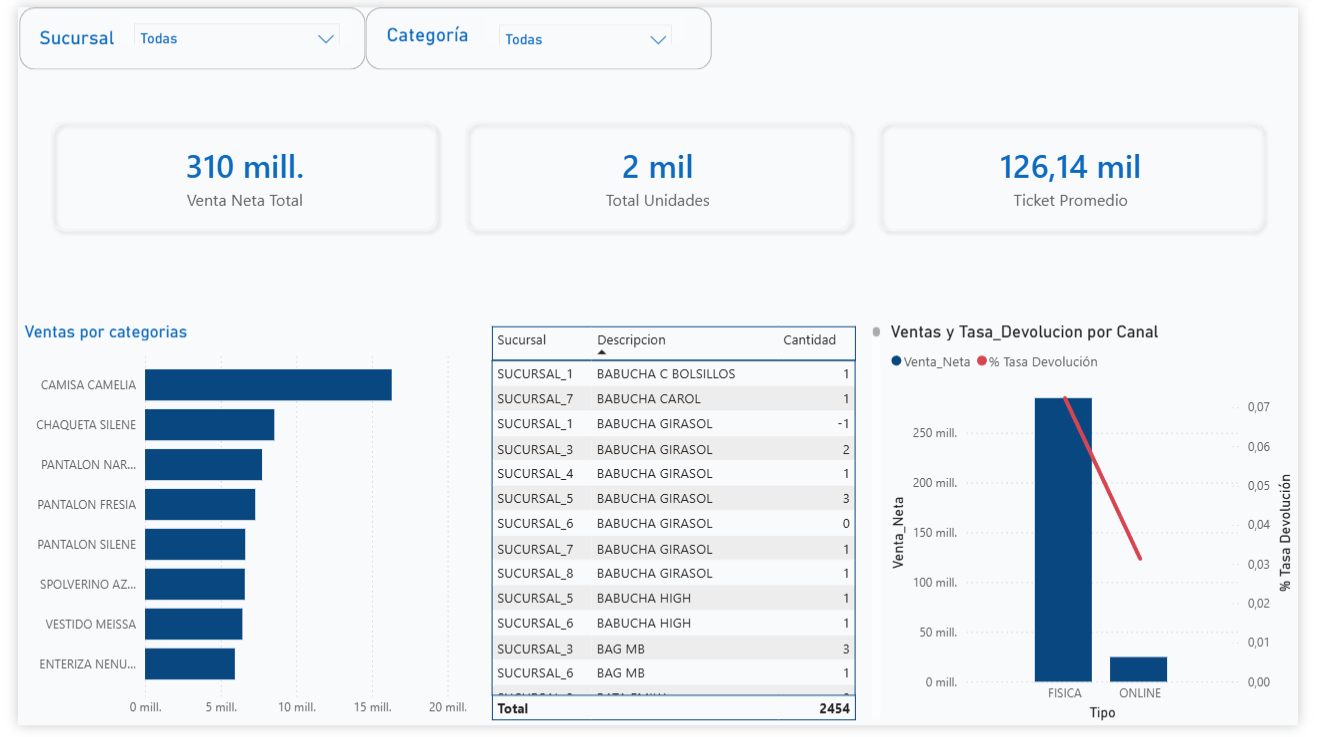

This screenshot's page, from the dashboard's own definition file:
{"tool":"powerbi","page":{"name":"Panorama Peneral","canvas":[1280,720],"ordinal":0},"visuals":[{"type":"cardVisual","fields":{"Data":["fact_ventas.Venta Neta Total","fact_ventas.Total Unidades","fact_ventas.Ticket Promedio"]},"box":[16.2,97.5,1247.5,143.8],"z":0},{"type":"clusteredBarChart","title":"Ventas por categorias","fields":{"Category":["dim_articulos.Descripcion"],"Y":["Sum(fact_ventas.Venta_Neta)"]},"box":[1.2,315,452.5,405],"z":1000},{"type":"lineClusteredColumnComboChart","title":"Ventas y Tasa_Devolucion por Canal","fields":{"Category":["dim_sucursales.Tipo"],"Y":["Sum(fact_ventas.Venta_Neta)"],"Y2":["fact_ventas.% Tasa Devolución"]},"box":[867.5,315,412.5,405],"z":3000},{"type":"tableEx","fields":{"Values":["dim_sucursales.Sucursal","dim_articulos.Descripcion","Sum(fact_ventas.Cantidad)"]},"box":[467.5,315,400,405],"z":4000},{"type":"shape","box":[1.2,0,346.2,62.5],"z":5000},{"type":"textbox","box":[16.2,15,156.2,47.5],"z":6000},{"type":"slicer","fields":{"Values":["dim_sucursales.Sucursal"]},"box":[103,2.9,233.2,35.8],"z":7000},{"type":"shape","box":[347.5,0,346.2,62.5],"z":10000},{"type":"textbox","box":[363.8,11.2,156.2,47.5],"z":11000},{"type":"slicer","fields":{"Values":["dim_articulos.Descripcion"]},"box":[467.8,4.3,200.3,34.3],"z":12000}]}

Visuals, with their boxes in screenshot pixels (x1, y1, x2, y2), scaled from the page's 1280x720 canvas onto the 1344x737 screenshot:
cardVisual - fact_ventas.Venta Neta Total x fact_ventas.Total Unidades: bbox(17, 100, 1327, 247)
"Ventas por categorias" clusteredBarChart: bbox(1, 322, 476, 736)
"Ventas y Tasa_Devolucion por Canal" lineClusteredColumnComboChart: bbox(911, 322, 1343, 736)
tableEx - dim_sucursales.Sucursal x dim_articulos.Descripcion: bbox(491, 322, 911, 736)
shape: bbox(1, 0, 365, 64)
textbox: bbox(17, 15, 181, 64)
slicer - dim_sucursales.Sucursal: bbox(108, 3, 353, 40)
shape: bbox(365, 0, 728, 64)
textbox: bbox(382, 11, 546, 60)
slicer - dim_articulos.Descripcion: bbox(491, 4, 702, 40)
